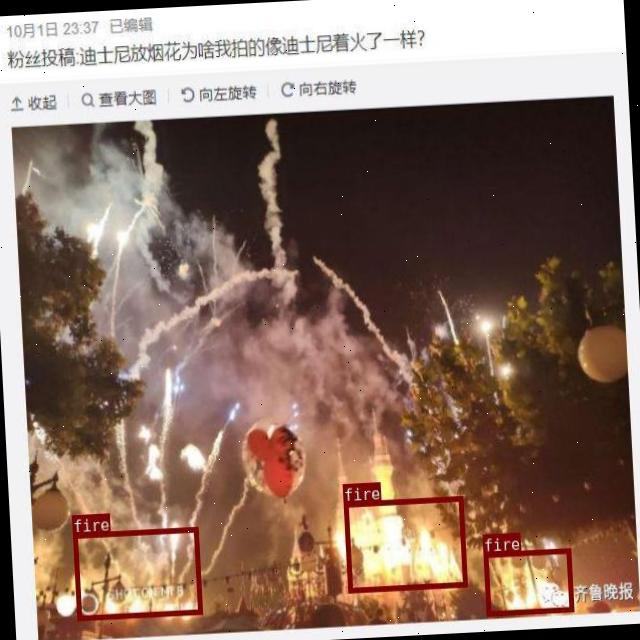fire: (342, 496, 468, 592), (73, 527, 202, 620), (483, 548, 572, 614)
